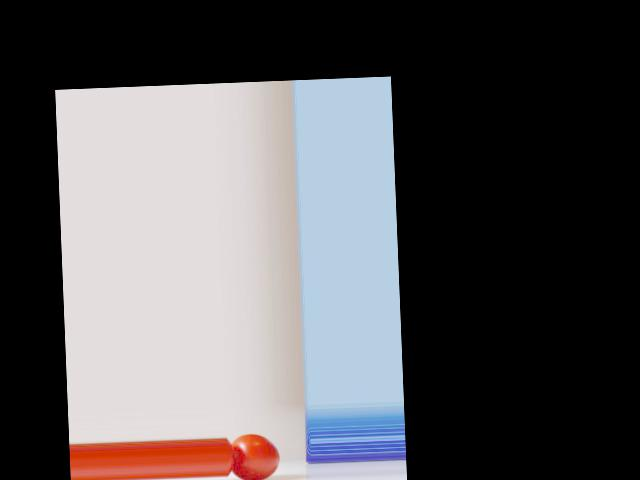tomato: (231, 433, 280, 480)
